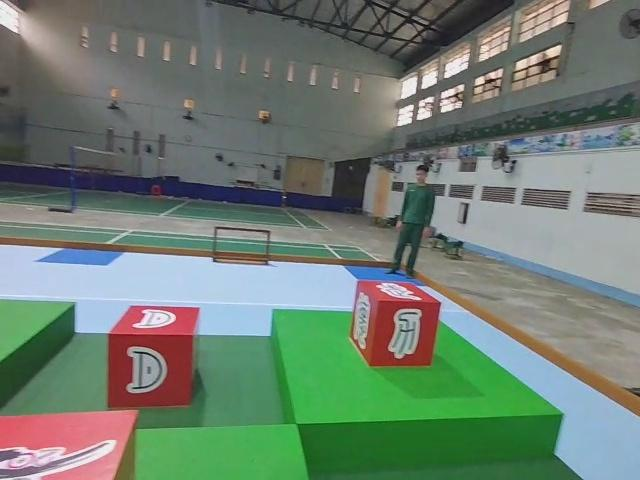R1: (0, 405, 140, 480)
R2 Fake: (349, 278, 442, 370)
R2 Real: (104, 301, 202, 410)
